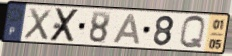8: (87, 10, 111, 45), (152, 14, 175, 48)
A: (111, 13, 141, 46)
Q: (178, 14, 207, 51)
X: (48, 7, 82, 43), (22, 6, 53, 42)
